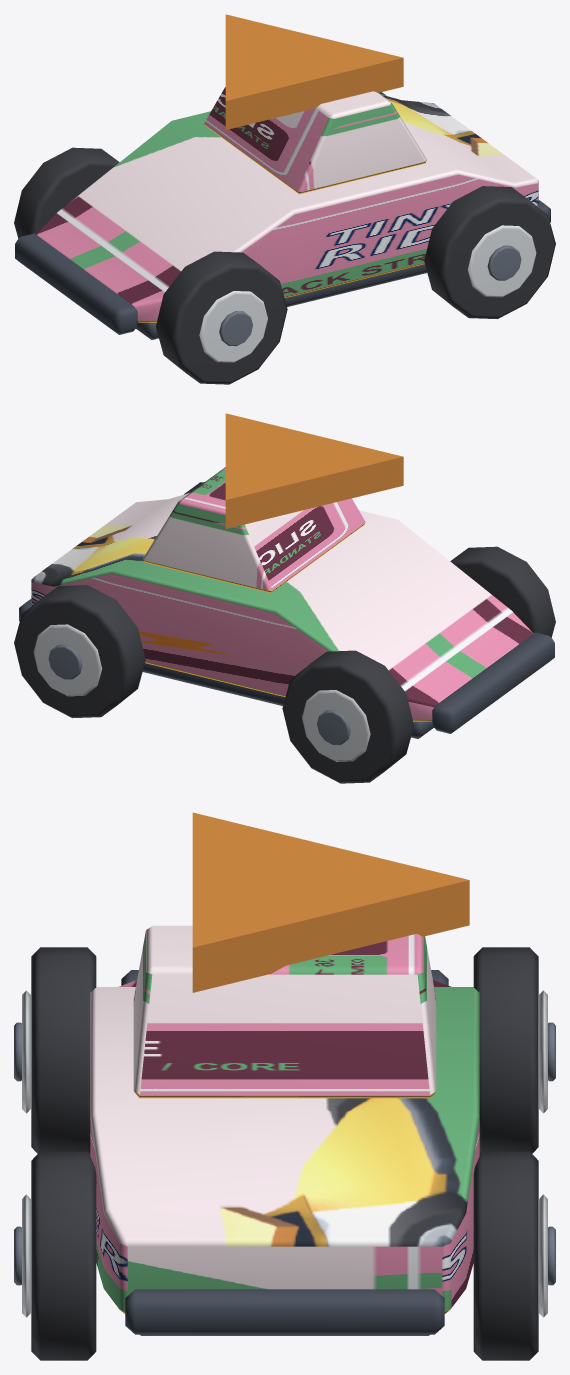
3 renders of one model, top to bottom at view 1: azimuth 30°, elevation 25°; view 2: azimuth 150°, elevation 25°; view 3: azimuth 270°, elevation 25°, orthographic. The views are drawn at different scales.
Visible parts, largest first — view 1: SS-02_connected_shell, SS-02_cabin, flat pizza wedge, Tire, Tire.002, Tire.001, front bumper, Rim, Rim.002, underbody, Hub.002, Hub; view 2: SS-02_connected_shell, SS-02_cabin, flat pizza wedge, Tire.001, Tire.003, Tire, front bumper, Rim.001, Rim.003, underbody, Hub.003, Hub.001; view 3: SS-02_connected_shell, SS-02_cabin, flat pizza wedge, rear bumper, Tire.002, Tire.003, Tire, Tire.001, Rim, Rim.001, Rim.002, Rim.003.
Part boxes in pixels (x1=…): SS-02_connected_shell: x1=36, y1=94, x2=538, y2=322; SS-02_cabin: x1=204, y1=87, x2=426, y2=194; flat pizza wedge: x1=225, y1=14, x2=403, y2=129; Tire: x1=156, y1=251, x2=287, y2=384; Tire.002: x1=424, y1=186, x2=555, y2=319; Tire.001: x1=14, y1=147, x2=119, y2=238; front bumper: x1=15, y1=233, x2=138, y2=334; Rim: x1=199, y1=291, x2=267, y2=362; Rim.002: x1=467, y1=225, x2=536, y2=297; underbody: x1=136, y1=264, x2=427, y2=339; Hub.002: x1=487, y1=245, x2=521, y2=280; Hub: x1=219, y1=311, x2=252, y2=346; SS-02_connected_shell: x1=31, y1=493, x2=533, y2=721; SS-02_cabin: x1=143, y1=467, x2=365, y2=593; flat pizza wedge: x1=225, y1=413, x2=403, y2=528; Tire.001: x1=282, y1=650, x2=413, y2=783; Tire.003: x1=14, y1=585, x2=145, y2=718; Tire: x1=450, y1=546, x2=555, y2=637; front bumper: x1=431, y1=632, x2=554, y2=733; Rim.001: x1=302, y1=690, x2=370, y2=761; Rim.003: x1=33, y1=624, x2=102, y2=696; underbody: x1=142, y1=663, x2=433, y2=738; Hub.003: x1=48, y1=644, x2=82, y2=679; Hub.001: x1=317, y1=710, x2=350, y2=745; SS-02_connected_shell: x1=90, y1=980, x2=479, y2=1313; SS-02_cabin: x1=133, y1=925, x2=436, y2=1098; flat pizza wedge: x1=192, y1=812, x2=469, y2=992; rear bumper: x1=125, y1=1289, x2=444, y2=1334; Tire.002: x1=31, y1=1151, x2=96, y2=1360; Tire.003: x1=473, y1=1151, x2=538, y2=1360; Tire: x1=31, y1=947, x2=96, y2=1153; Tire.001: x1=473, y1=947, x2=538, y2=1153; Rim: x1=22, y1=990, x2=30, y2=1113; Rim.001: x1=539, y1=990, x2=547, y2=1113; Rim.002: x1=22, y1=1194, x2=30, y2=1317; Rim.003: x1=539, y1=1194, x2=547, y2=1317.
Size of the model in its own units: 316 by 163 by 217.
